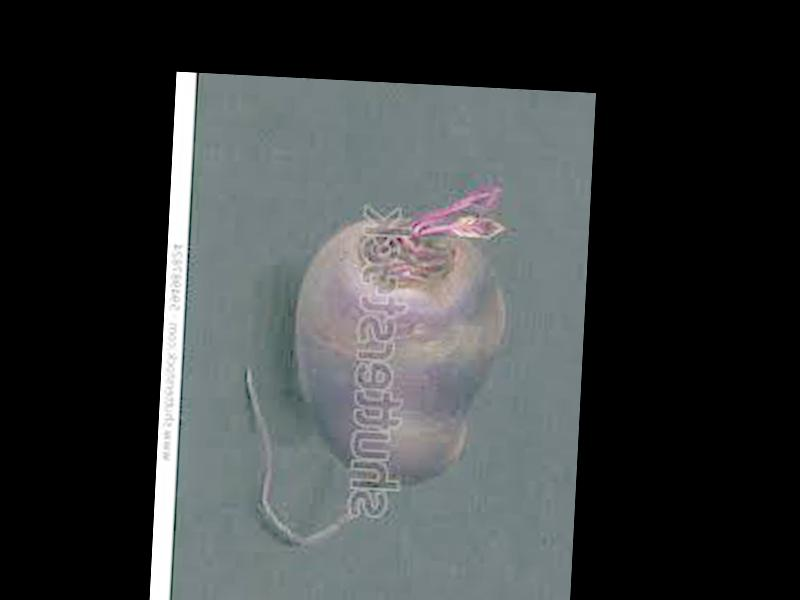Beet: (238, 166, 513, 553)
